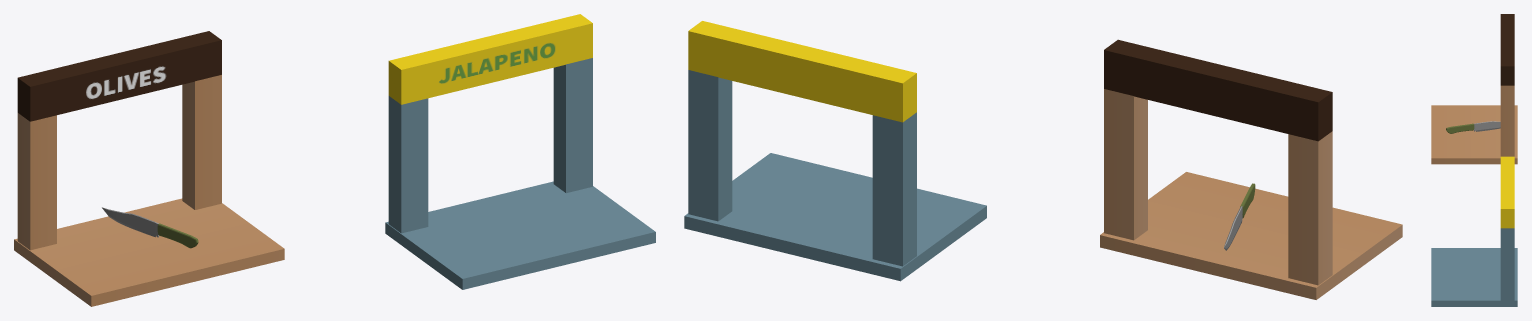
Rendered from OLIVE .fbx.
The picture shows the model from 3 angles, left to right: view 1: azimuth 30°, elevation 25°; view 2: azimuth 150°, elevation 25°; view 3: azimuth 270°, elevation 25°; orthographic projection. The views are drawn at different scales.
Visible parts, largest first — view 1: Cube.024, Cube.026, Cube.025; view 2: Cube.024, Cube.026, Cube.025; view 3: Cube.024, Cube.026, Cube.025.
Boxes of the visible parts, box(x1,y1,x2,y2) form: Cube.024: box(385, 14, 655, 289); Cube.026: box(14, 31, 284, 306); Cube.025: box(102, 207, 198, 248); Cube.024: box(684, 21, 986, 281); Cube.026: box(1100, 39, 1402, 299); Cube.025: box(1224, 183, 1255, 250); Cube.024: box(1431, 156, 1517, 306); Cube.026: box(1431, 14, 1517, 164); Cube.025: box(1446, 121, 1500, 133).
Size of the model in its own units: 1166 by 490 by 276.
3 materials, 1 textured.
